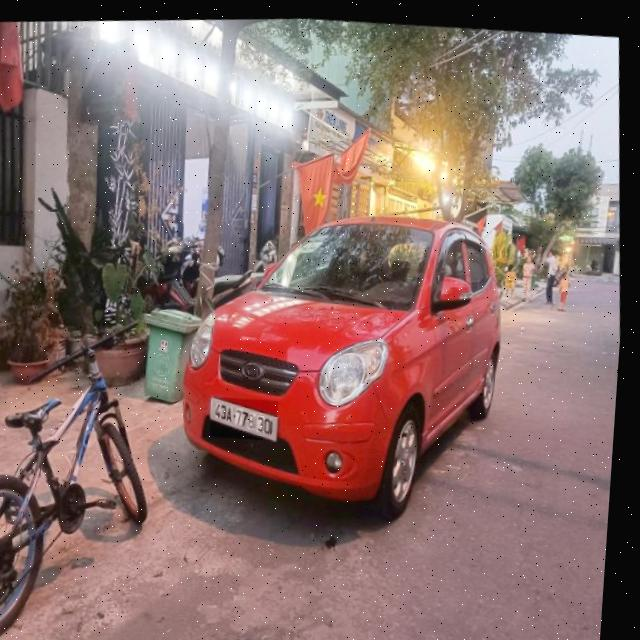car: (154, 191, 535, 536)
motorcycle: (0, 329, 166, 640)
plate: (203, 390, 282, 447)
